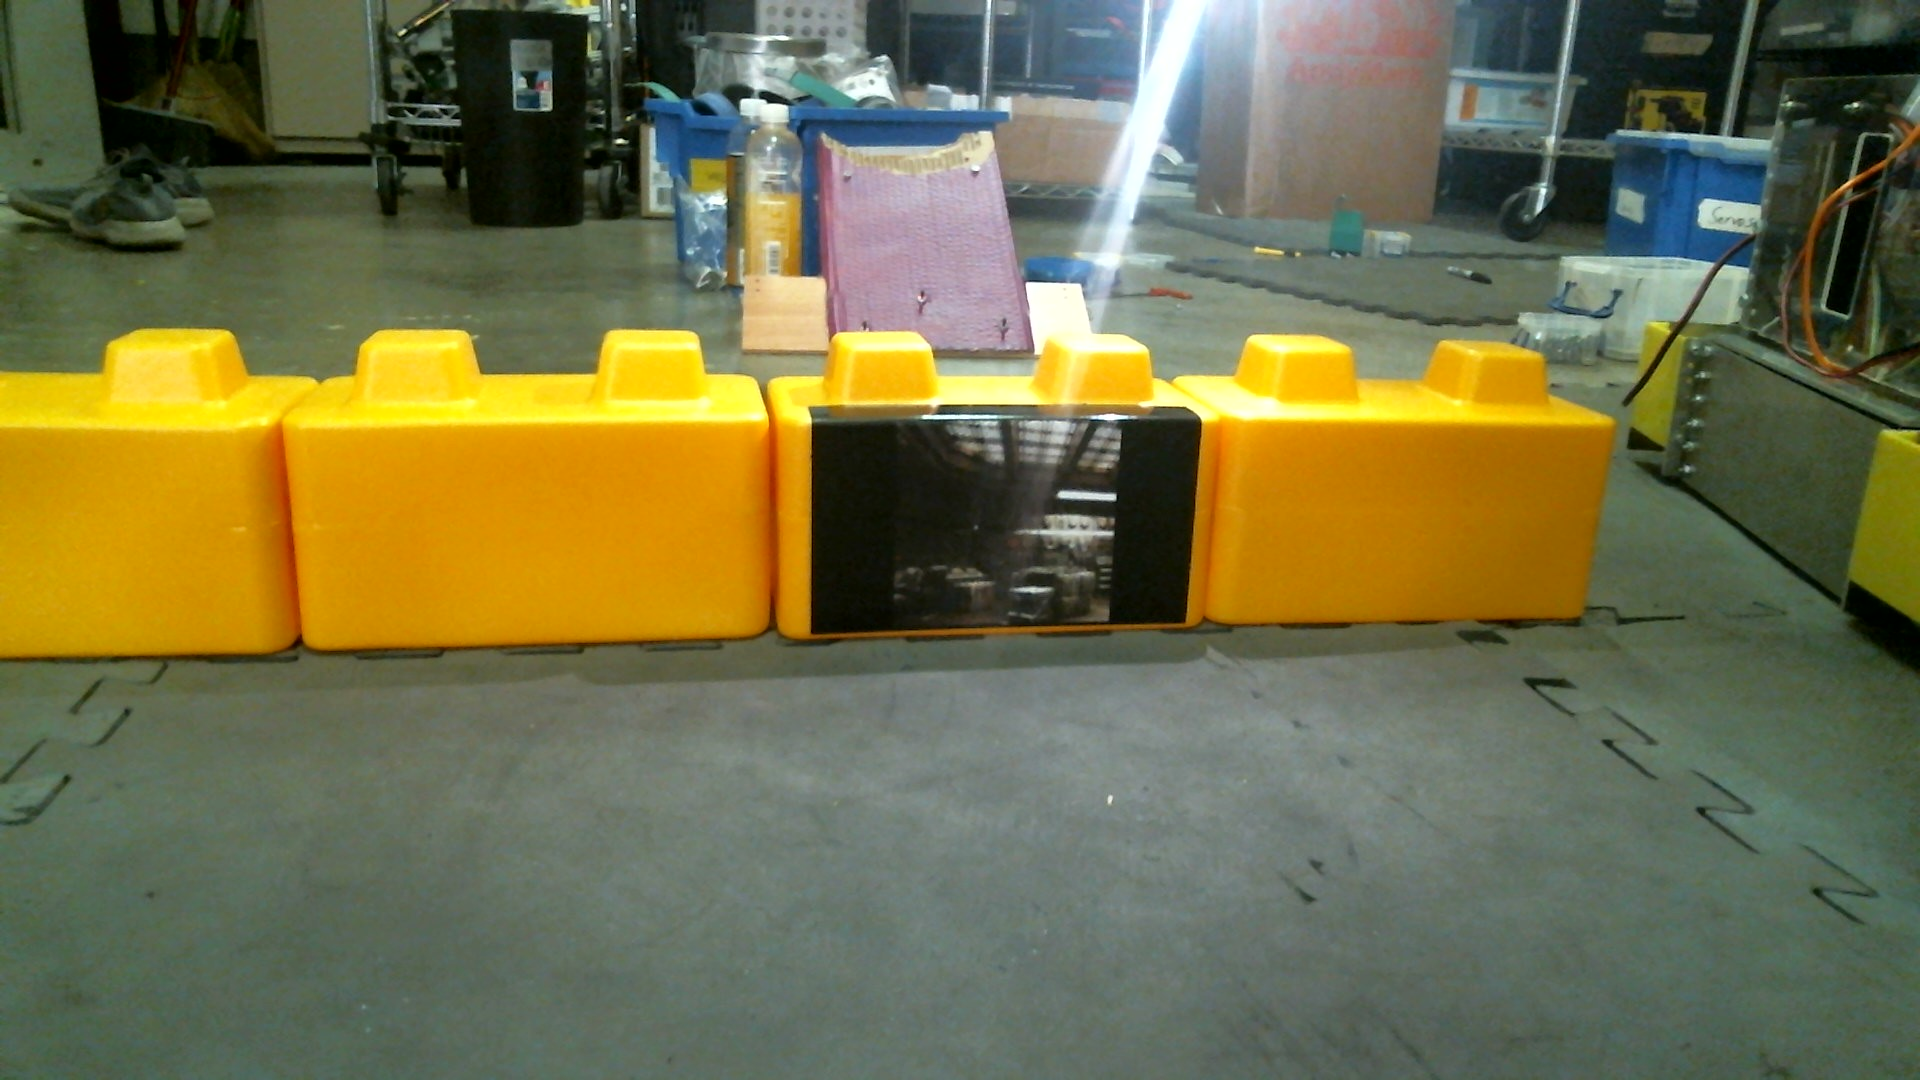skystone: (767, 328, 1196, 636)
stone: (282, 324, 775, 650), (1180, 327, 1604, 626), (1, 316, 295, 659)
